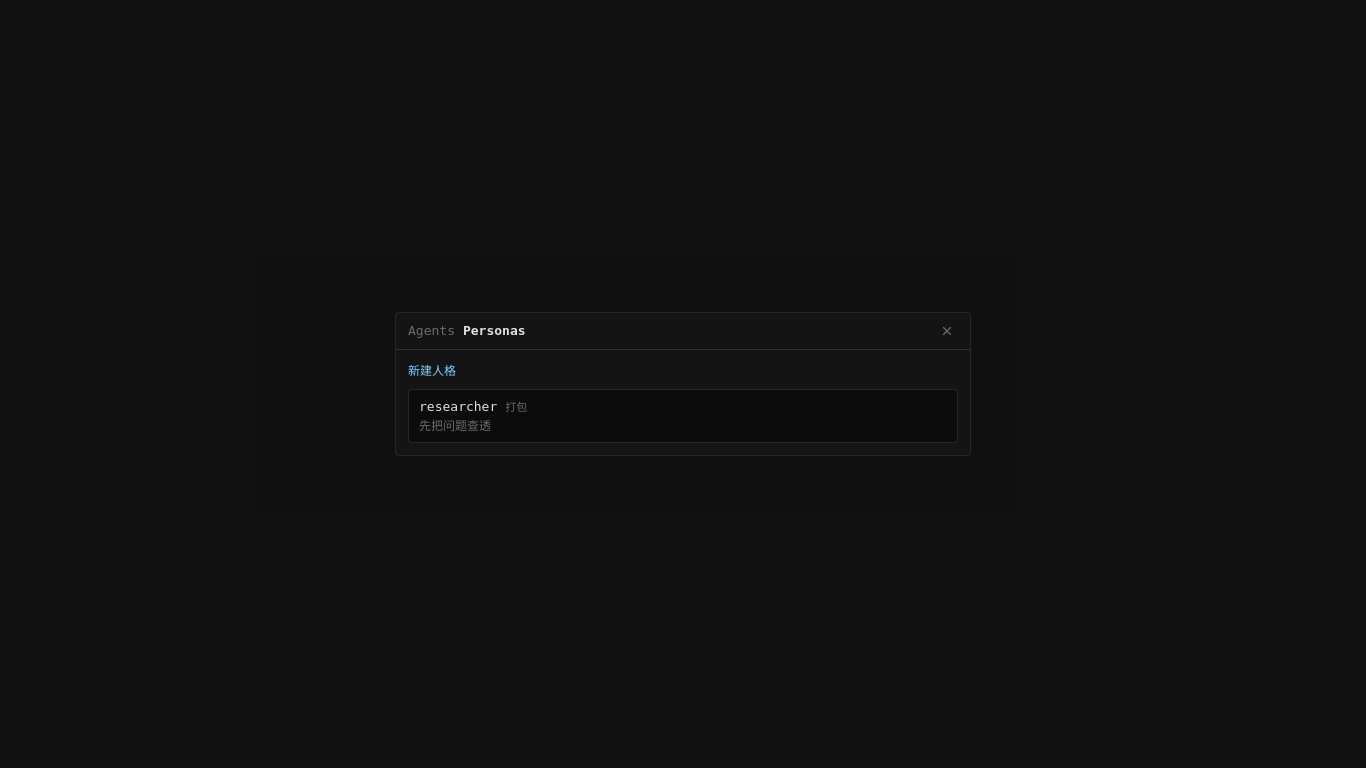
Test: AgentsModal 人格页 › 打包人格不能删：详情里没有删除入口，也没有确认行
This screenshot has width=1366, height=768.
Expected: the text "researcher" is shown, [419,399,497,414]
Click the button "researcher" at (458, 406), box [408,389,958,443]
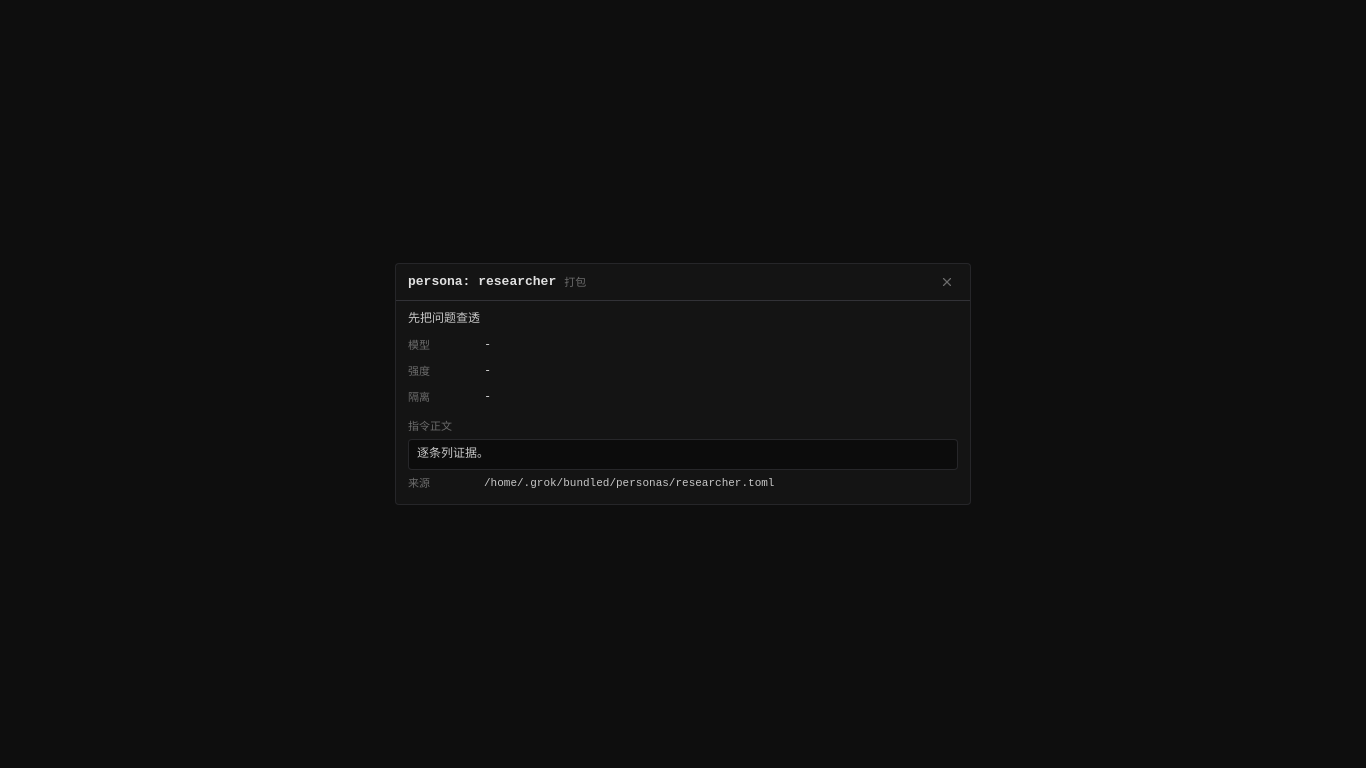
Result: the dialog with test id "persona-detail" shows "逐条列证据。" at [417,447,489,461]
